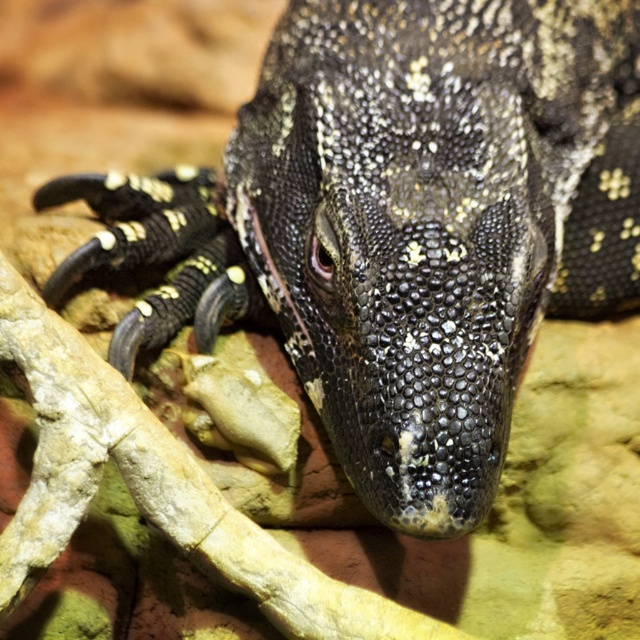Lizard: (35, 2, 597, 579)
